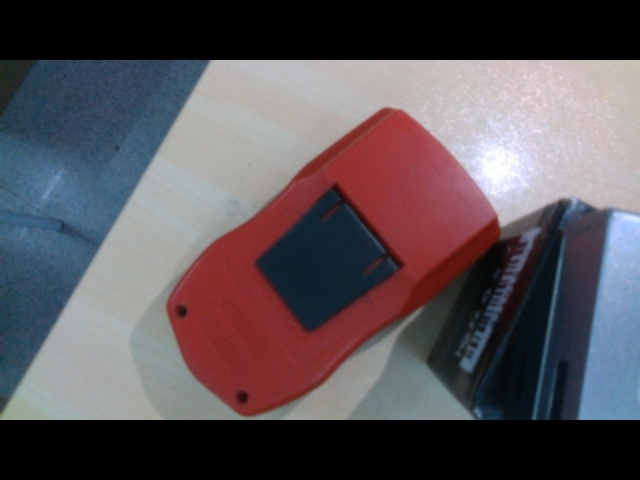Multimeter: (165, 107, 501, 418)
